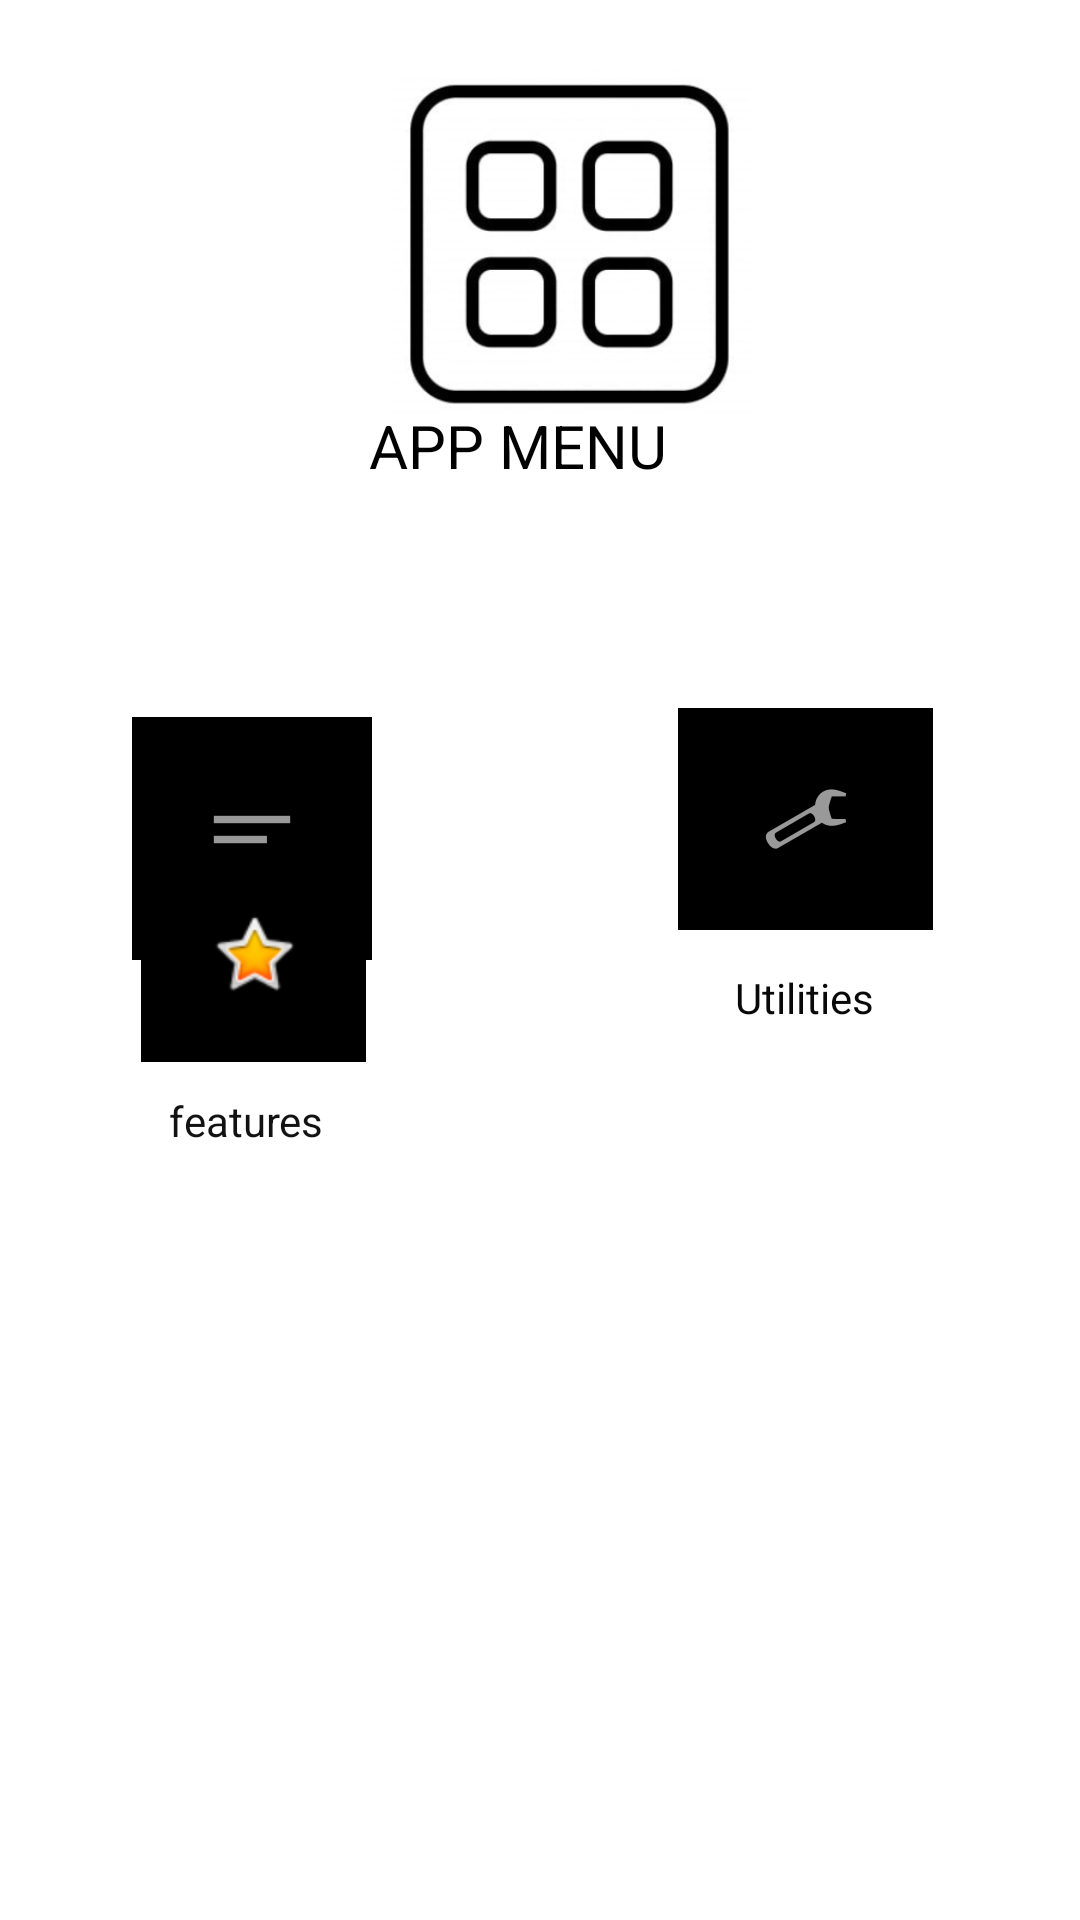

Icons on this 1080w x 1920h Android screen, each with its box as (x1, y1, x2, y2):
manage: (678, 708, 933, 930)
